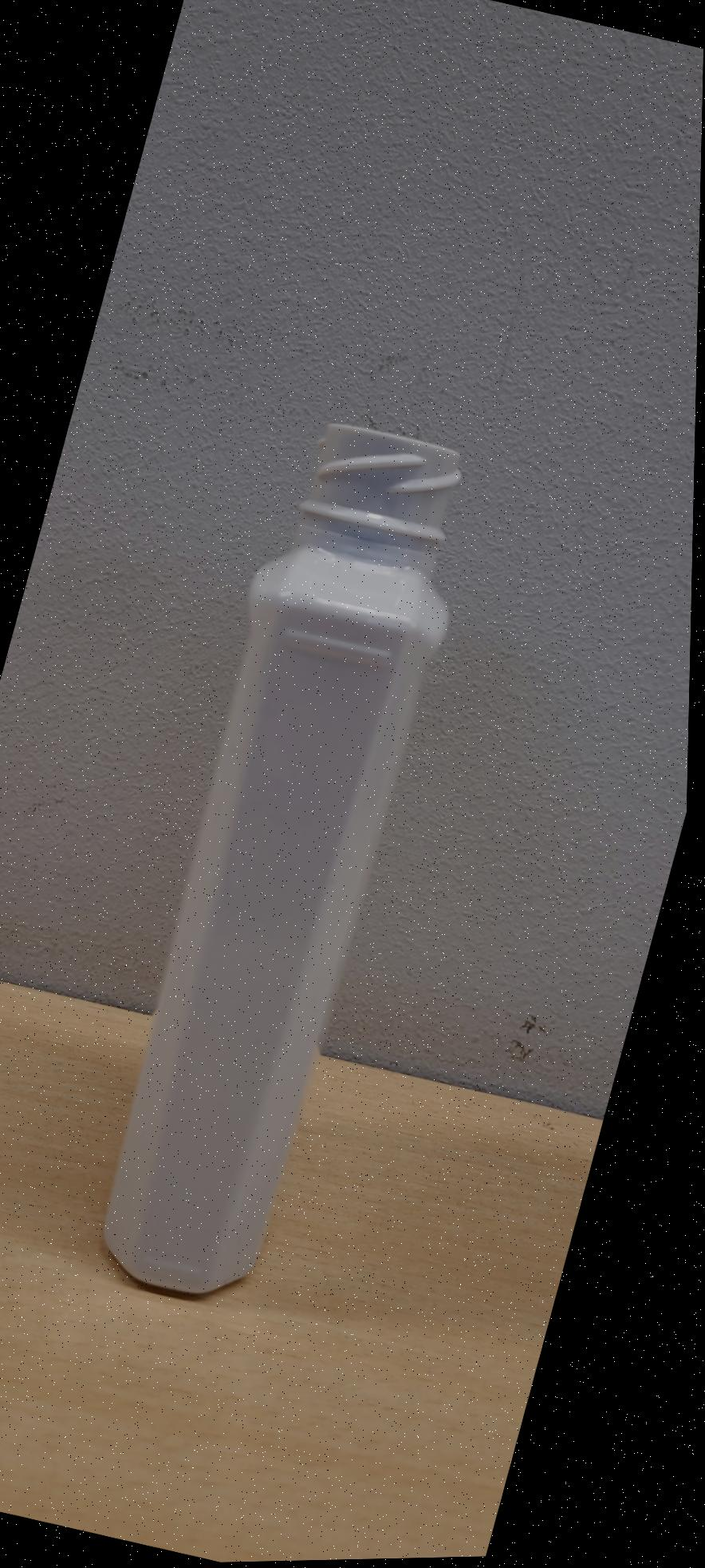bottle: (103, 423, 461, 1294)
